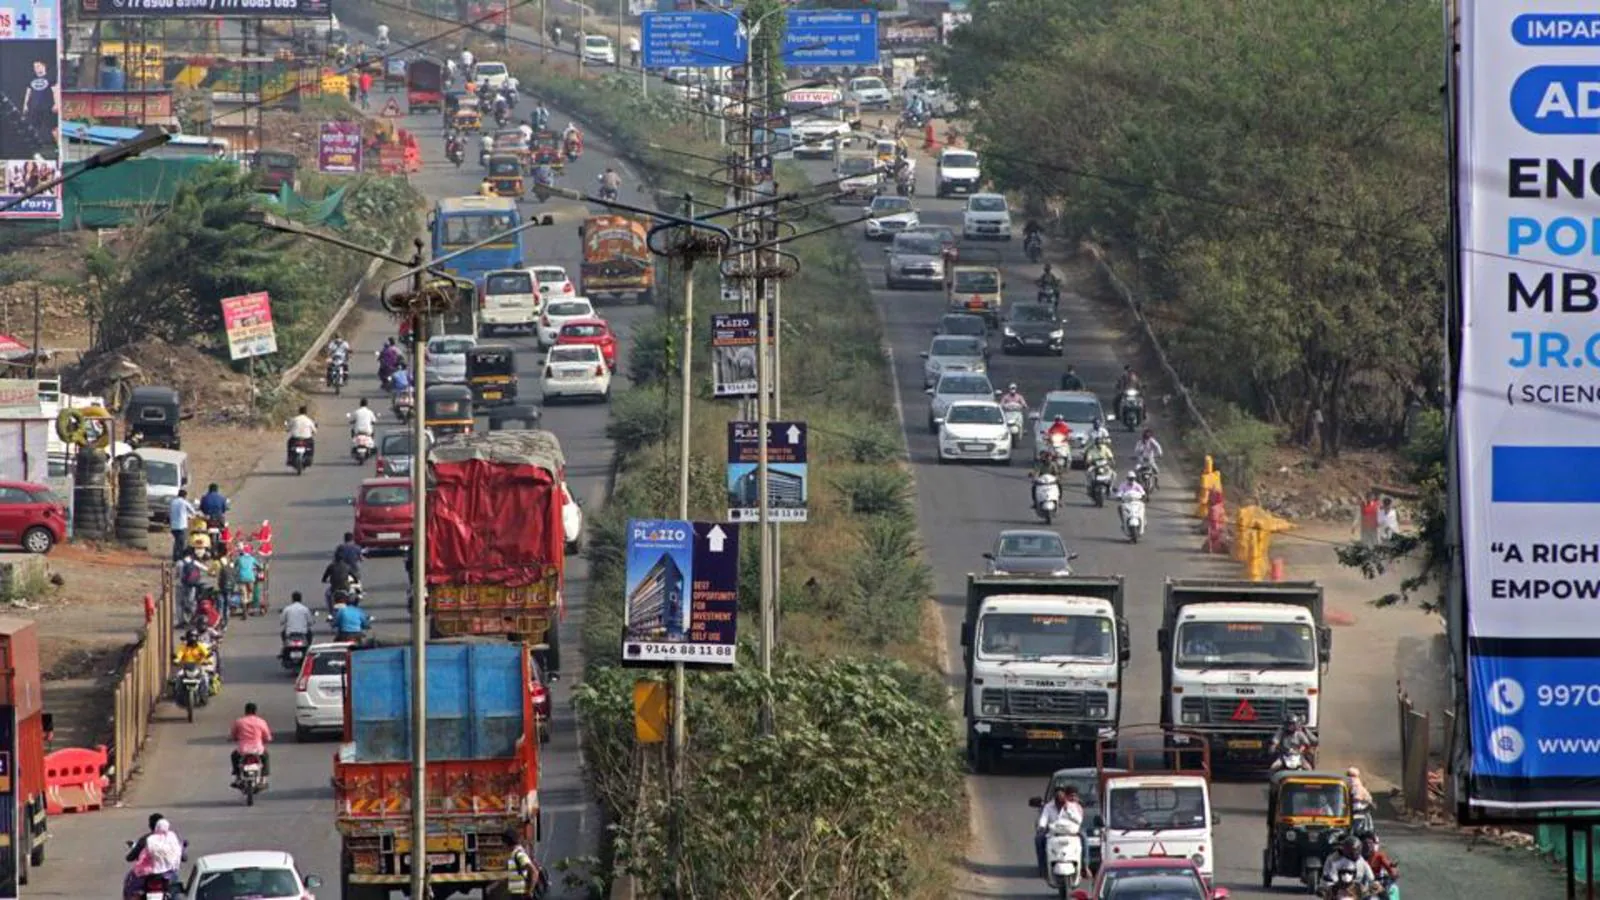bike: (124, 815, 191, 900), (1036, 792, 1088, 891), (225, 703, 275, 805), (1325, 840, 1396, 899), (1107, 367, 1162, 438), (171, 631, 213, 724), (1079, 435, 1125, 508), (1025, 453, 1069, 529), (1111, 477, 1158, 544), (174, 491, 223, 554), (274, 591, 313, 669), (281, 402, 323, 475), (344, 395, 385, 465), (316, 554, 365, 602), (324, 330, 353, 400), (995, 384, 1031, 436), (1015, 219, 1049, 254), (597, 167, 627, 204), (1037, 264, 1066, 303), (443, 130, 470, 165), (565, 127, 587, 163)
bus: (424, 192, 531, 277), (781, 85, 845, 157)
car: (182, 852, 332, 900), (288, 638, 352, 738), (112, 446, 204, 510), (1092, 858, 1227, 900), (936, 398, 1014, 468), (11, 479, 71, 565), (537, 341, 616, 404), (877, 227, 952, 285), (480, 269, 544, 331), (921, 332, 998, 381), (1000, 298, 1071, 351), (956, 195, 1016, 247), (564, 318, 623, 366), (853, 189, 918, 233), (836, 71, 898, 113), (926, 148, 992, 187), (420, 331, 470, 380), (569, 30, 624, 73), (545, 298, 585, 324)
rickshaw: (1262, 769, 1356, 870), (118, 384, 196, 445), (419, 379, 482, 432), (476, 344, 520, 395), (482, 155, 521, 190)
truck: (332, 644, 549, 897), (408, 420, 575, 671), (1151, 562, 1345, 762), (953, 566, 1140, 767), (1088, 729, 1230, 866)
